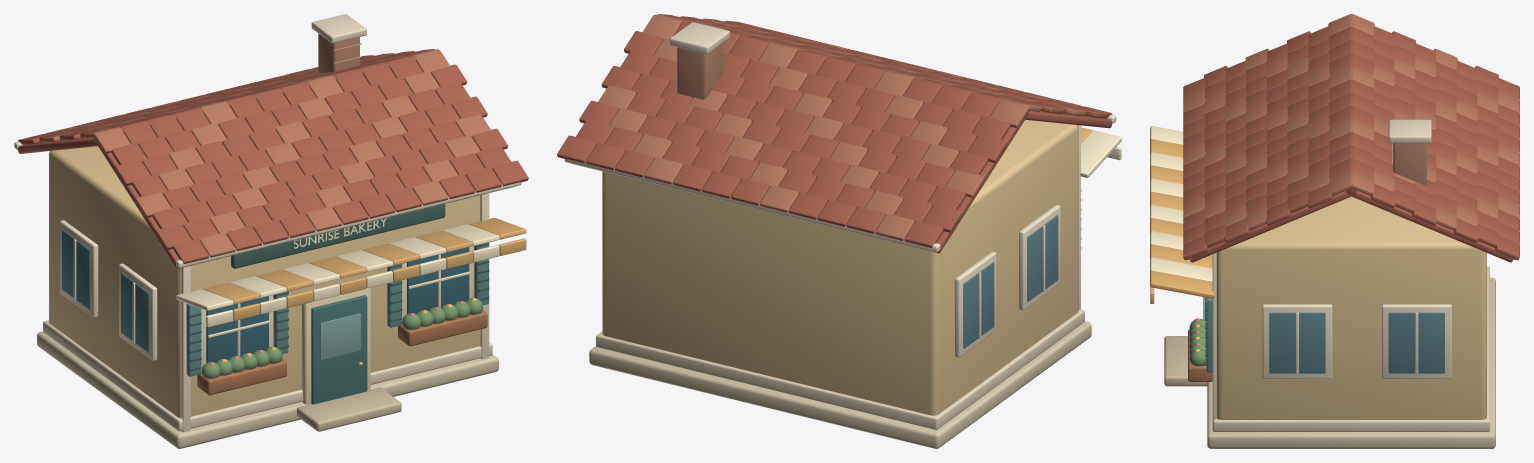
File: bakery.glb
3 views of the same model, side by side, from view 1: azimuth 30°, elevation 25°; view 2: azimuth 150°, elevation 25°; view 3: azimuth 270°, elevation 25° (orthographic). The views are drawn at different scales.
Parts seen in each view (by area): view 1: Foundation; view 2: Foundation; view 3: Foundation.
Boxes of the visible parts, x1,y1,x2,y2 form: Foundation: (14,14,528,448); Foundation: (557,14,1121,448); Foundation: (1150,14,1519,448).
Size of the model in its own units: 9.12 by 7.15 by 8.2.
